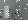person: (11, 7, 17, 19), (5, 7, 10, 19)
